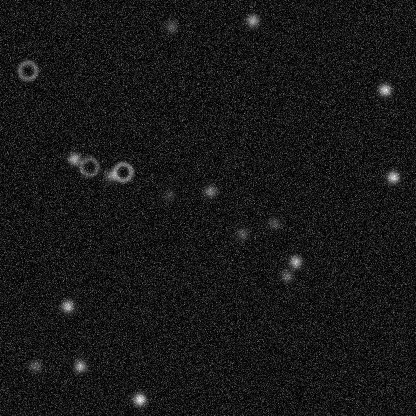Ring: (110, 159, 134, 183), (15, 58, 39, 82), (76, 154, 100, 178)
Spot: (66, 150, 82, 166), (131, 391, 147, 407), (163, 18, 179, 34), (71, 358, 87, 374), (160, 187, 176, 203), (376, 81, 392, 97), (59, 298, 75, 314), (244, 12, 260, 28), (266, 215, 282, 231), (384, 169, 400, 185), (234, 225, 250, 241), (278, 267, 294, 283), (202, 183, 218, 199), (287, 253, 303, 269), (26, 357, 42, 373), (102, 167, 118, 183)
